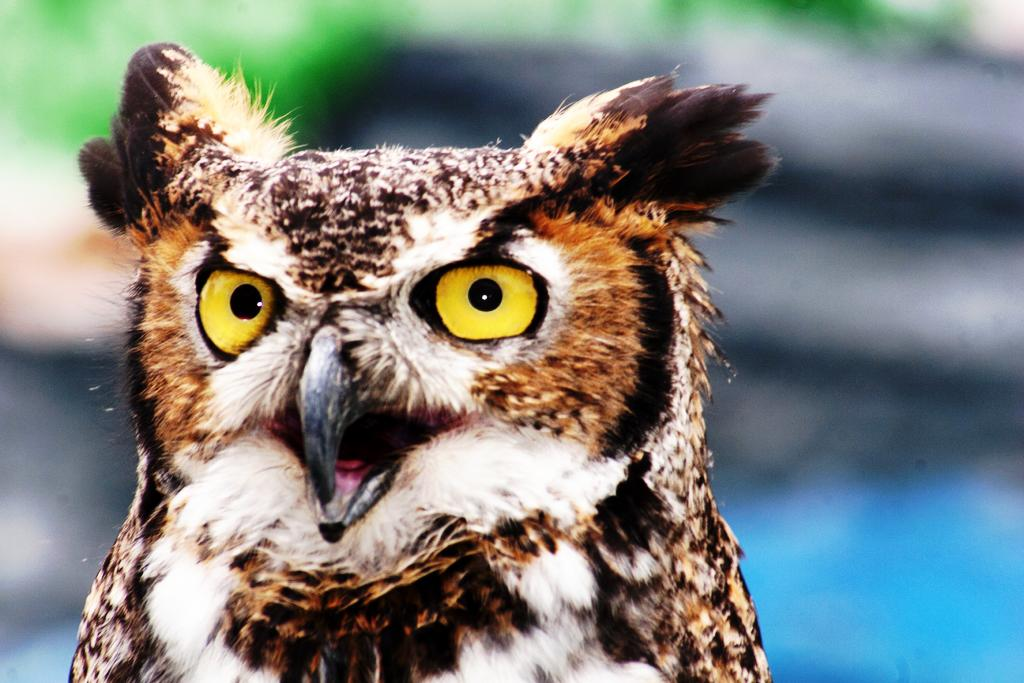Owl: (68, 41, 784, 683)
